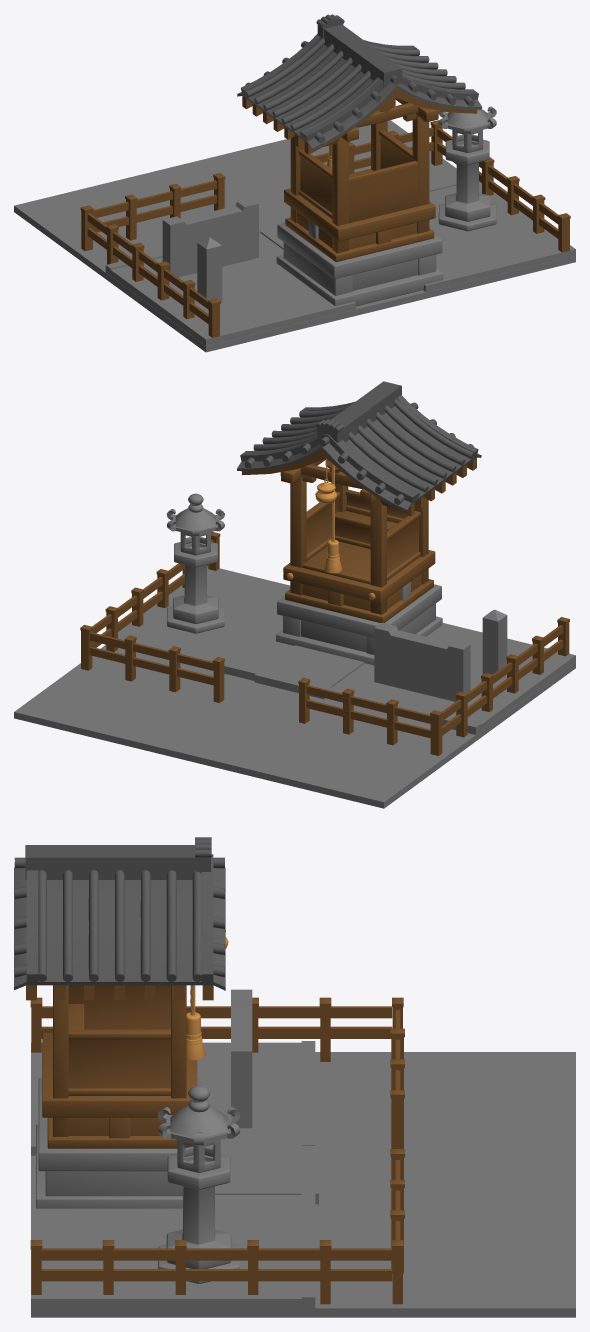
Rendered from mesh_house2.fbx.
3 renders of one model, top to bottom at view 1: azimuth 30°, elevation 25°; view 2: azimuth 150°, elevation 25°; view 3: azimuth 270°, elevation 25°, orthographic. The views are drawn at different scales.
Parts seen in each view (by area): view 1: shrine_01_stone, shrine_01_wood, shrine_01_roof; view 2: shrine_01_stone, shrine_01_wood, shrine_01_roof, shrine_01_add; view 3: shrine_01_stone, shrine_01_wood, shrine_01_roof, shrine_01_add.
Part boxes in pixels (<box>): shrine_01_stone: <box>14,106,575,352</box>; shrine_01_wood: <box>80,88,570,337</box>; shrine_01_roof: <box>237,14,482,150</box>; shrine_01_stone: <box>14,493,575,808</box>; shrine_01_wood: <box>80,450,569,755</box>; shrine_01_roof: <box>237,381,481,512</box>; shrine_01_add: <box>286,458,375,599</box>; shrine_01_stone: <box>31,989,575,1317</box>; shrine_01_wood: <box>26,985,404,1304</box>; shrine_01_roof: <box>14,837,225,990</box>; shrine_01_add: <box>186,929,228,1060</box>.
Size of the model in its own units: 4.5 by 2.86 by 4.17.
